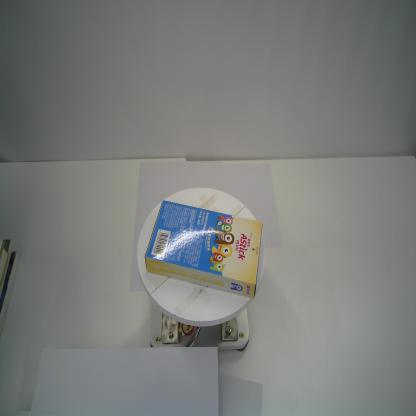Dessert: (145, 198, 263, 300)
